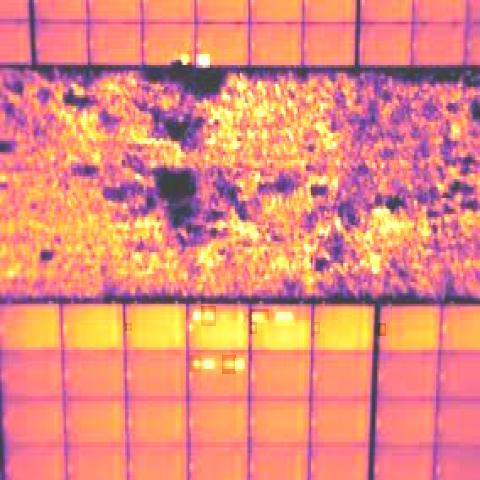fault: (274, 306, 296, 326), (201, 306, 216, 326), (222, 355, 236, 374), (178, 51, 192, 68), (250, 309, 269, 320), (189, 355, 201, 372), (196, 54, 210, 68), (203, 355, 216, 369), (235, 358, 245, 371), (191, 309, 201, 320), (378, 323, 386, 336), (250, 322, 257, 334), (188, 322, 194, 334), (314, 322, 320, 334), (125, 323, 132, 331)
